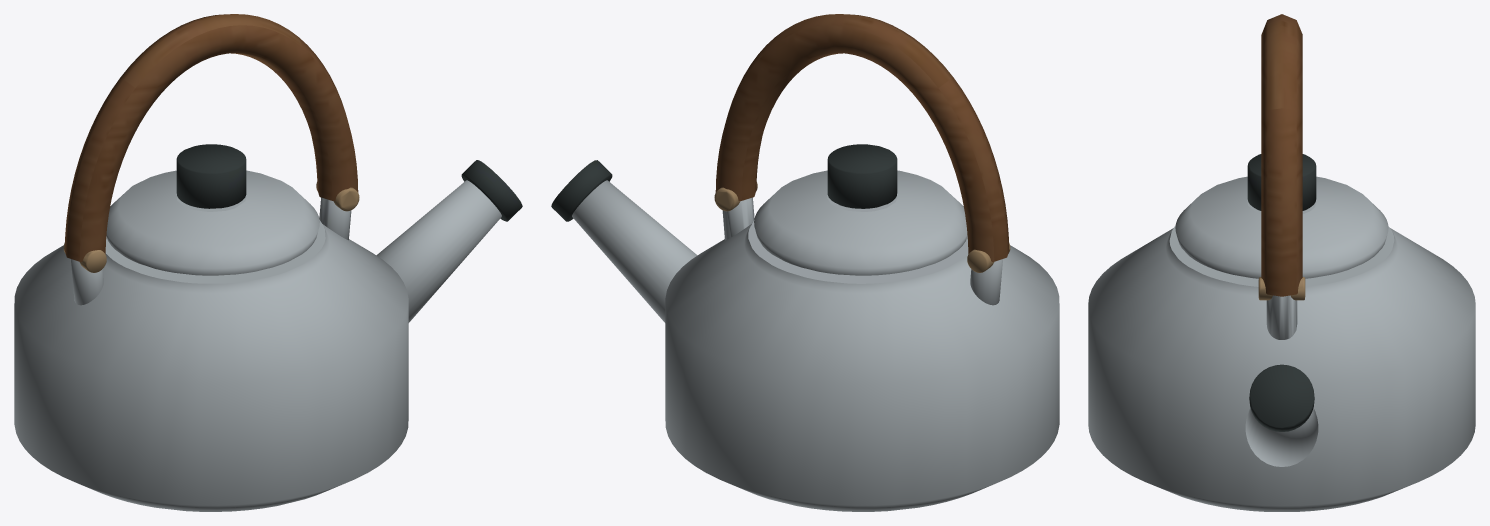
Rendered from chai_kettle.glb.
The picture shows the model from 3 angles, left to right: view 1: azimuth 30°, elevation 25°; view 2: azimuth 150°, elevation 25°; view 3: azimuth 270°, elevation 25°; orthographic projection.
Visible parts, largest first — view 1: Hollow kettle spout, Arched stove kettle handle, Removable kettle lid knob, Kettle handle pivot pin; view 2: Hollow kettle spout, Arched stove kettle handle, Removable kettle lid knob, Kettle handle pivot pin; view 3: Hollow kettle spout, Arched stove kettle handle, Removable kettle lid knob.
Boxes of the visible parts, x1,y1,x2,y2 form: Hollow kettle spout: (14, 170, 501, 511); Arched stove kettle handle: (64, 14, 358, 261); Removable kettle lid knob: (176, 144, 522, 221); Kettle handle pivot pin: (63, 182, 359, 272); Hollow kettle spout: (572, 170, 1059, 511); Arched stove kettle handle: (715, 14, 1009, 261); Removable kettle lid knob: (551, 144, 897, 221); Kettle handle pivot pin: (714, 182, 1010, 272); Hollow kettle spout: (1088, 176, 1475, 511); Arched stove kettle handle: (1261, 14, 1302, 296); Removable kettle lid knob: (1247, 154, 1316, 431).
Size of the model in its own units: 0.3116 by 0.268 by 0.224.
Materials: 4 (4 with a texture image).
